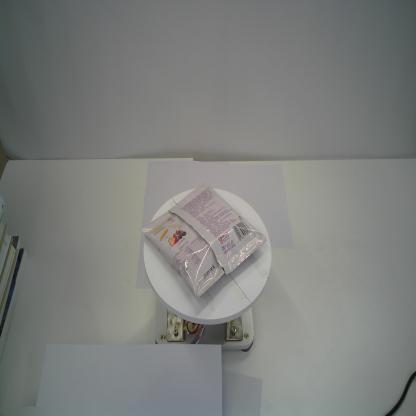Instant Drink: (139, 181, 267, 300)
